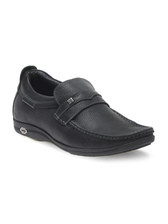shoes: (9, 63, 158, 157)
